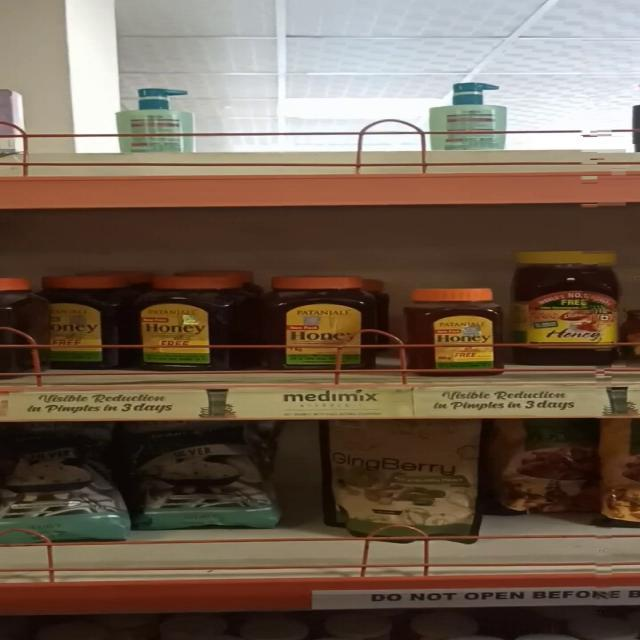Dabur Honey: (514, 246, 626, 370)
Patanjali Honey: (138, 270, 248, 368), (402, 285, 508, 376), (274, 279, 376, 373), (36, 269, 124, 367)
